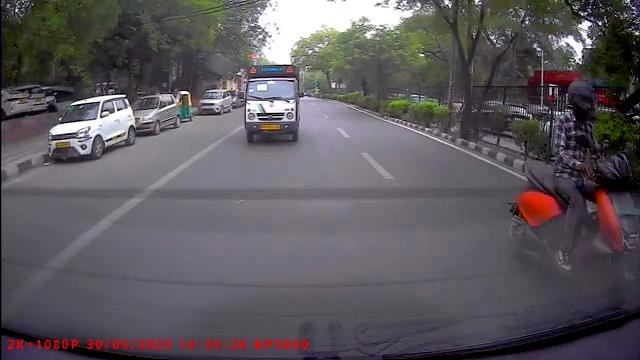motorcycle_with_helmet: (507, 72, 639, 309)
